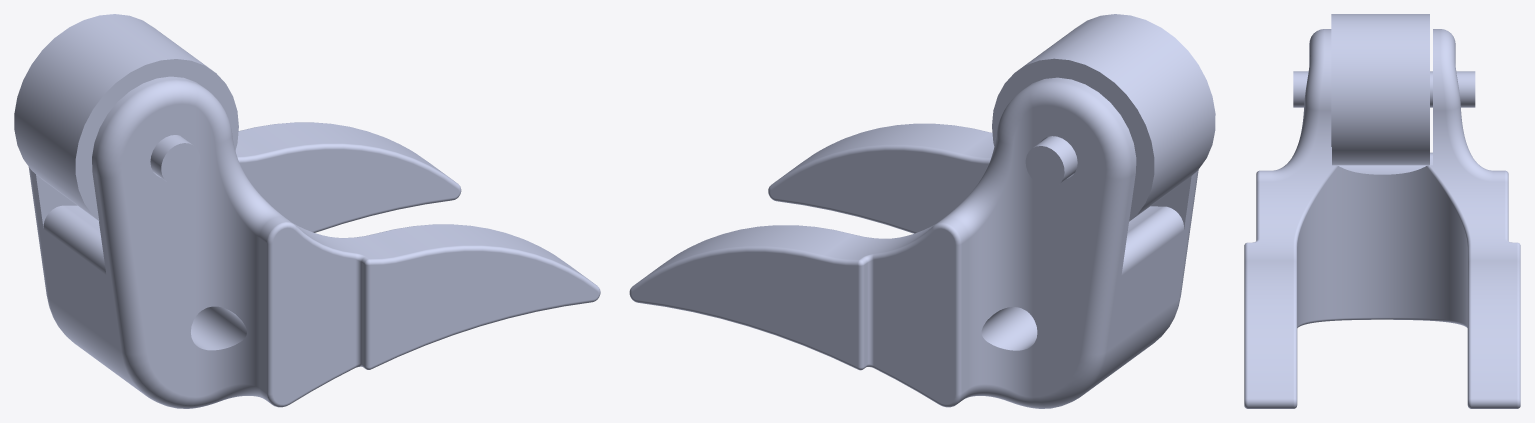
Rendered from RockerRollerCombinedV2^Valve_Train_Assembly.glb.
3 renders of one model, left to right at view 1: azimuth 30°, elevation 25°; view 2: azimuth 150°, elevation 25°; view 3: azimuth 270°, elevation 25°, orthographic. The views are drawn at different scales.
Parts seen in each view (by area): view 1: RockerRollerCombinedV2^Valve Train Assembly; view 2: RockerRollerCombinedV2^Valve Train Assembly; view 3: RockerRollerCombinedV2^Valve Train Assembly.
Boxes of the visible parts, x1=… form: RockerRollerCombinedV2^Valve Train Assembly: x1=14, y1=14, x2=600, y2=408; RockerRollerCombinedV2^Valve Train Assembly: x1=629, y1=14, x2=1215, y2=408; RockerRollerCombinedV2^Valve Train Assembly: x1=1244, y1=14, x2=1520, y2=408.
Bounding box in the file's own units: 0.0577 × 0.0409 × 0.0365.
